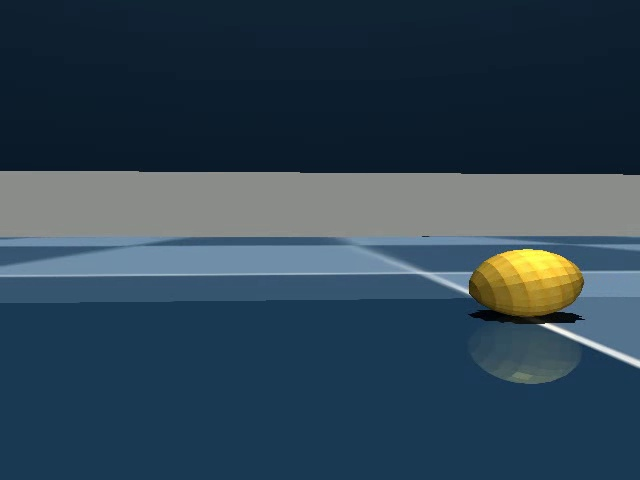lemon: (460, 242, 589, 332)
